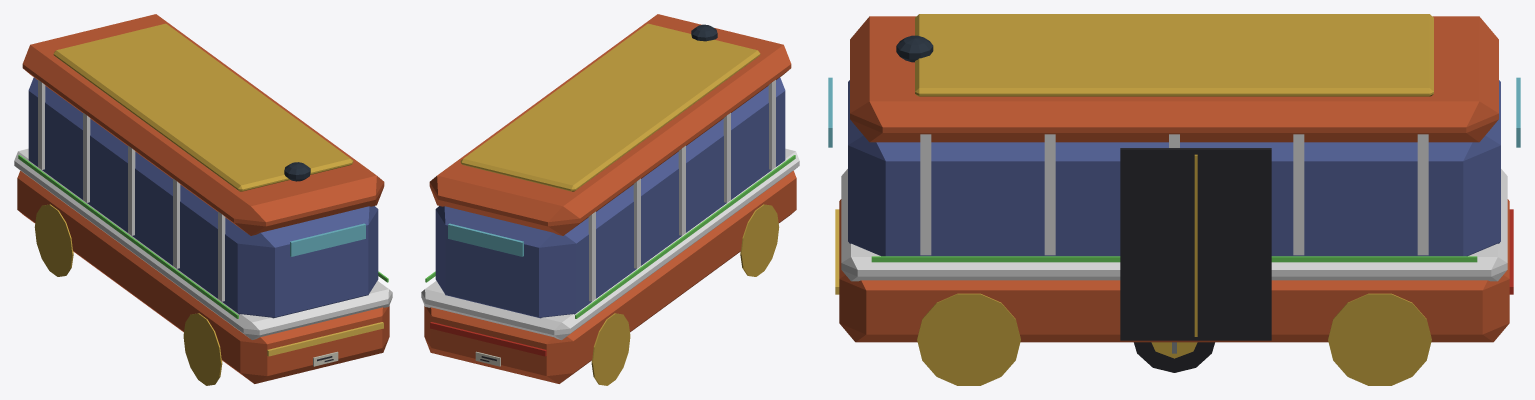
File: pod_bus.glb
The picture shows the model from 3 angles, left to right: view 1: azimuth 30°, elevation 25°; view 2: azimuth 150°, elevation 25°; view 3: azimuth 270°, elevation 25°; orthographic projection. The views are drawn at different scales.
Parts seen in each view (by area): view 1: body, paint, lights; view 2: body, paint, lights; view 3: body, paint, lights, wheel0.
Part boxes in pixels (x1=…): body: x1=17, y1=14, x2=389, y2=385; paint: x1=14, y1=80, x2=392, y2=339; lights: x1=18, y1=155, x2=388, y2=356; body: x1=424, y1=14, x2=796, y2=385; paint: x1=421, y1=80, x2=799, y2=339; lights: x1=425, y1=155, x2=795, y2=356; body: x1=839, y1=14, x2=1509, y2=385; paint: x1=841, y1=134, x2=1507, y2=281; lights: x1=828, y1=77, x2=1520, y2=294; wheel0: x1=1134, y1=342, x2=1214, y2=372.
Size of the model in its own units: 2.27 by 3.36 by 6.4.
